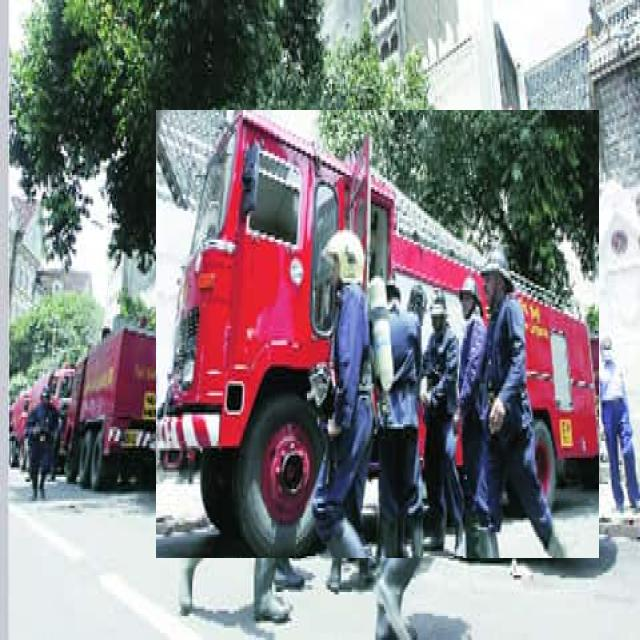emergency: (156, 110, 599, 558)
